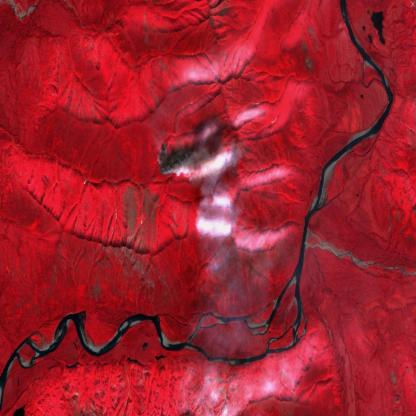fire: (156, 139, 198, 181)
